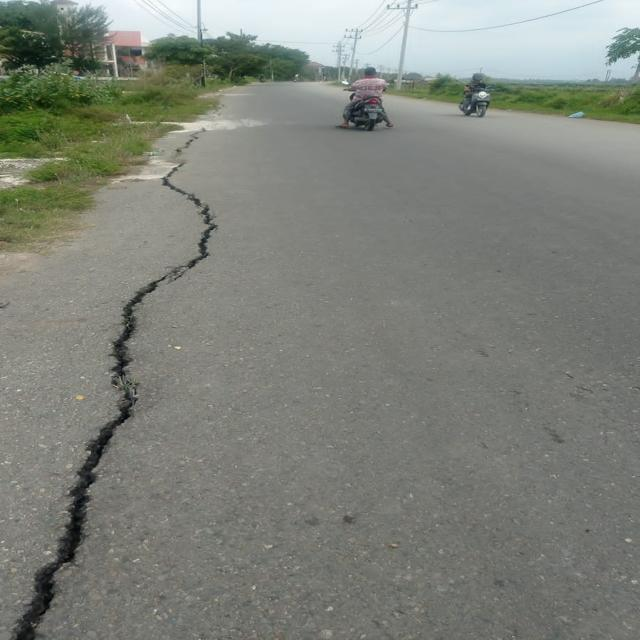Memanjang: (0, 140, 222, 640)
